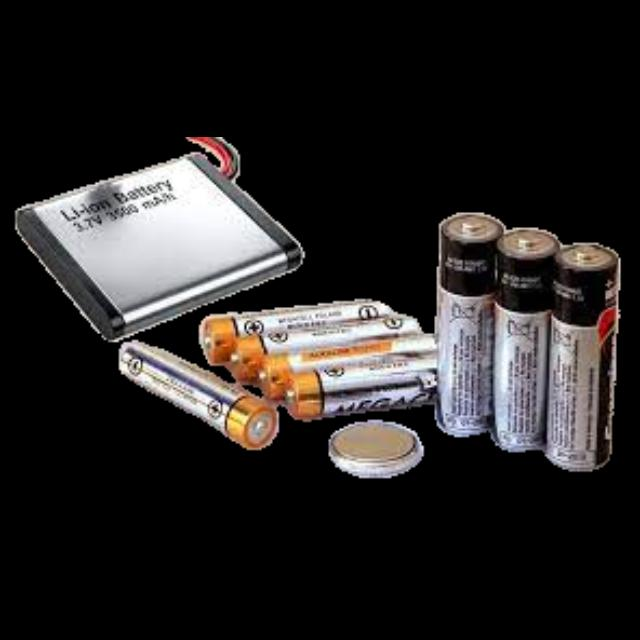Battery: (437, 212, 621, 473)
